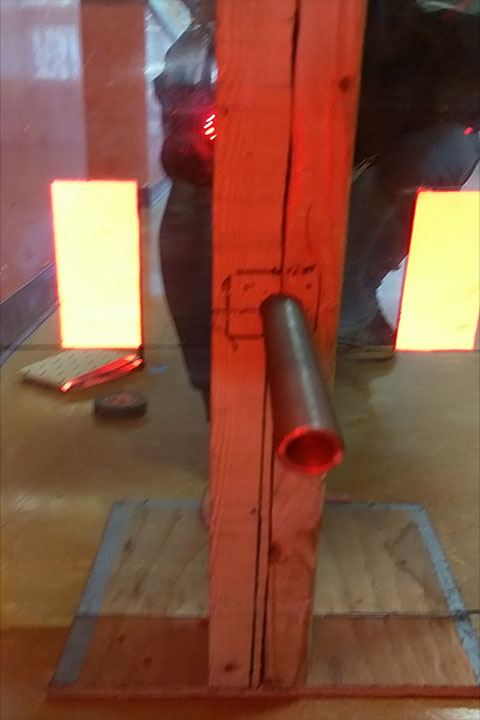gear: (49, 179, 144, 350), (395, 187, 480, 353)
